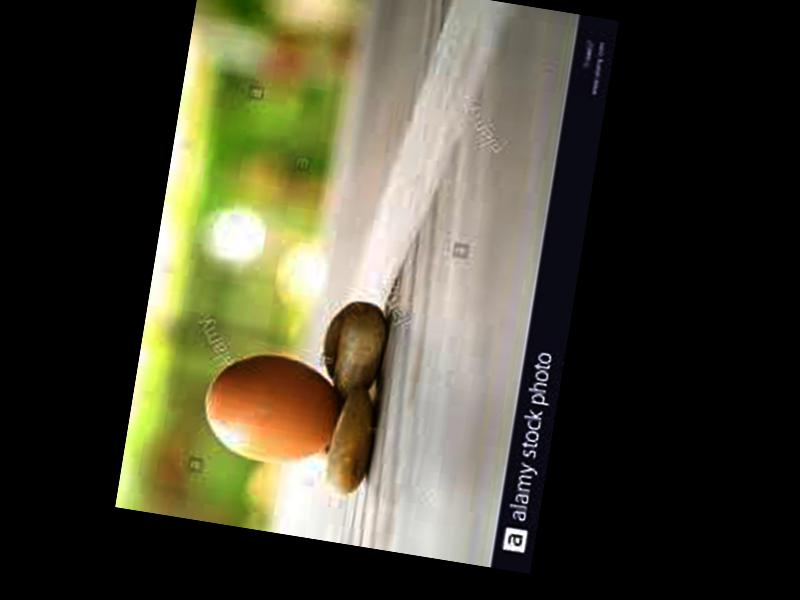Eggs: (199, 345, 346, 474)
